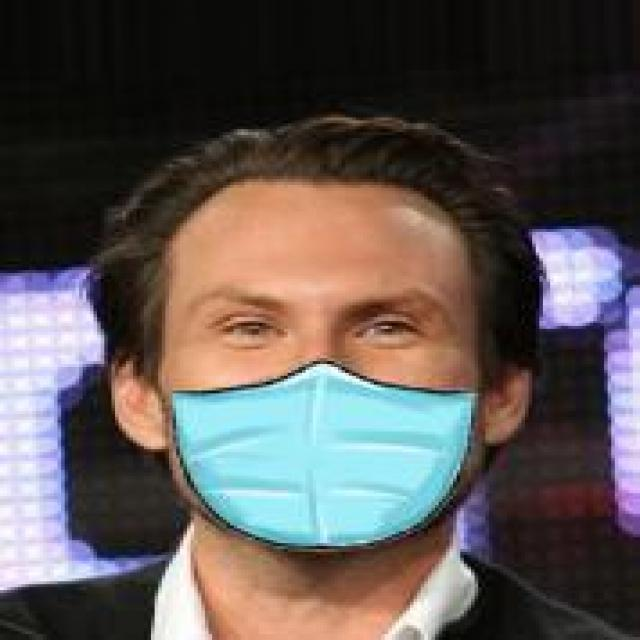mask: (43, 73, 586, 561)
